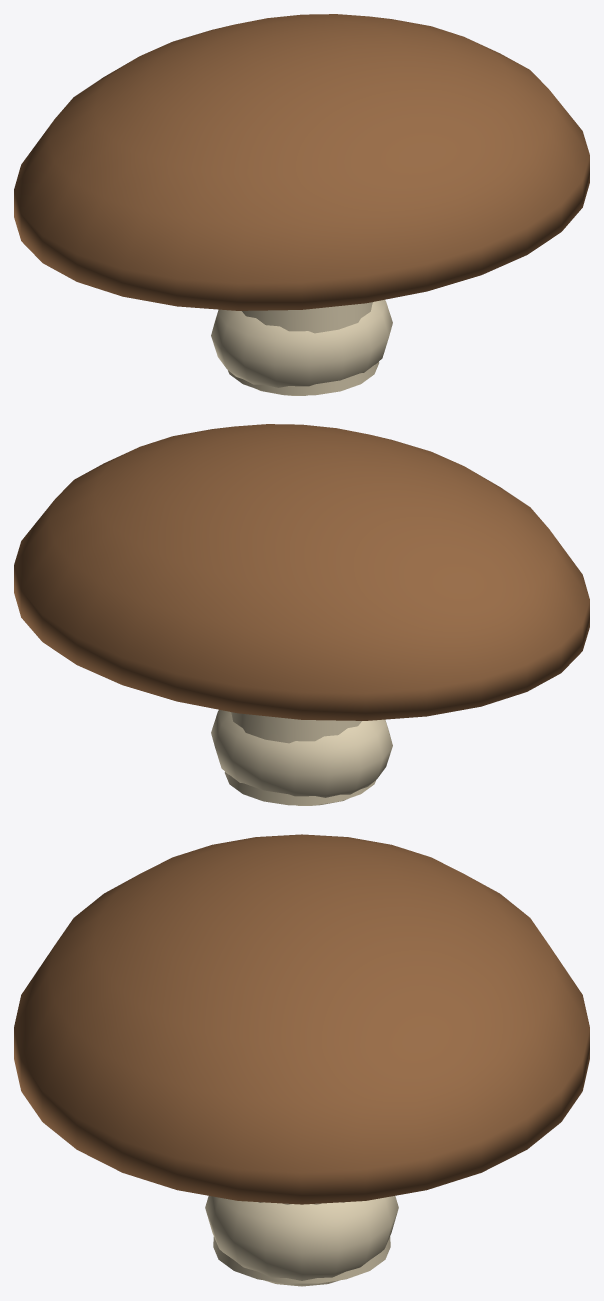
Rendered from mushroom_brown_cap.glb.
3 renders of one model, top to bottom at view 1: azimuth 30°, elevation 25°; view 2: azimuth 150°, elevation 25°; view 3: azimuth 270°, elevation 25°, orthographic. The views are drawn at different scales.
Parts seen in each view (by area): view 1: Brown_Mushroom_Broad_Closed_Cap, Brown_Mushroom_Stout_Base, Brown_Mushroom_Thick_Stem; view 2: Brown_Mushroom_Broad_Closed_Cap, Brown_Mushroom_Stout_Base, Brown_Mushroom_Thick_Stem; view 3: Brown_Mushroom_Broad_Closed_Cap, Brown_Mushroom_Stout_Base, Brown_Mushroom_Thick_Stem.
Part boxes in pixels (x1,y1,x2,y2): Brown_Mushroom_Broad_Closed_Cap: [14, 14, 589, 310]; Brown_Mushroom_Stout_Base: [211, 299, 392, 395]; Brown_Mushroom_Thick_Stem: [228, 302, 379, 395]; Brown_Mushroom_Broad_Closed_Cap: [14, 424, 589, 720]; Brown_Mushroom_Stout_Base: [211, 709, 392, 805]; Brown_Mushroom_Thick_Stem: [224, 712, 375, 805]; Brown_Mushroom_Broad_Closed_Cap: [14, 834, 589, 1204]; Brown_Mushroom_Stout_Base: [205, 1196, 398, 1286]; Brown_Mushroom_Thick_Stem: [213, 1202, 390, 1283].
Size of the model in its own units: 0.256 by 0.159 by 0.214.
